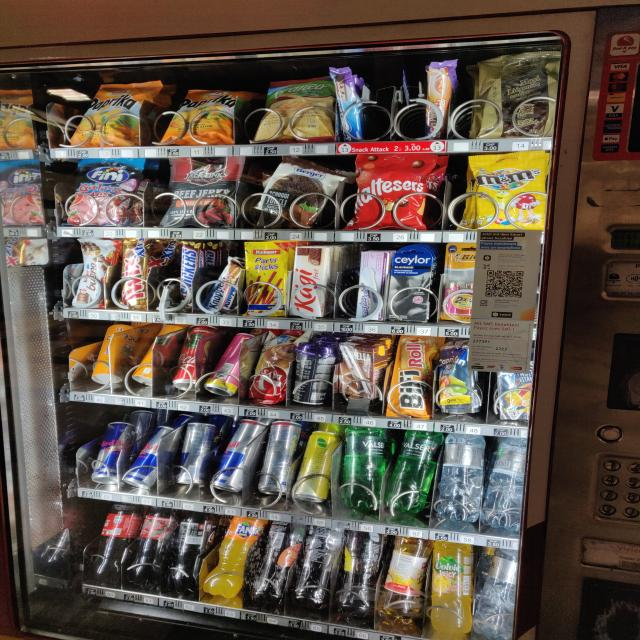7days_croissantschoko_packung_80_1_0000000000003: (249, 332, 295, 403)
bifi_roll__50__4251097402635: (388, 334, 441, 418)
bueno___43__4008400320328: (70, 240, 122, 307)
c-swiss_dosenabisicetea__33__9120025930135: (90, 324, 137, 386)
caferoyal_classicmacchiato__33__7617014164487: (288, 337, 339, 405)
caprisun_multivitamin__20__4000177605004: (430, 346, 482, 416), (490, 351, 538, 423)
coke__flasche_50__54491472: (79, 504, 135, 577), (125, 508, 173, 584)
coke_zero_flasche_50__5449000131836: (166, 514, 206, 589)
comella_schokodrink__33__7613100037253: (337, 342, 382, 397)
fanta___50__40822938: (203, 518, 260, 596)
fini_galaxymix_packung_100_1_8410525150364: (64, 157, 147, 226)
fuse_lemon__50__5449000235947: (333, 532, 386, 614), (293, 528, 337, 610)
fuse_lemon_dose_33__5449000235947: (294, 432, 342, 502)
fuse_peach__50__5449000236623: (246, 523, 306, 596)
jlbrichard_gauffrechoko__90__5410495002079: (472, 49, 566, 139)
kagi___50__7610046000259: (288, 245, 332, 318)
knoppers_riegel____4035800488808: (201, 256, 243, 314)
malburner_partysticks__40__7610200279682: (241, 242, 287, 318)
maltesers___100__5000159023061: (345, 154, 440, 232)
mnms_gelb__45__40111445: (467, 153, 551, 231)
ramseier_schorle__50__7610057012456: (376, 538, 429, 620)
redbull___33__90162909: (214, 419, 266, 491), (253, 421, 302, 493), (122, 426, 172, 490), (88, 424, 131, 484), (178, 425, 215, 489)
snickers___50__5000159461122: (172, 241, 203, 314)
tiki_himbeer_brause__50__00000000009342: (207, 335, 248, 397)
twix___50__5000159459228: (116, 240, 152, 310)
valser_classic__50__76404160: (384, 430, 444, 512), (341, 426, 388, 510)
valser_still__50__7610335002575: (435, 436, 487, 522), (482, 436, 528, 530), (474, 551, 520, 639)
volvic_pinapple__50__305764335648: (426, 544, 475, 634)
zweifel_graneochilli__100__7610095184009: (254, 71, 340, 146)
zweifel_paprika__90__7610095013002: (70, 79, 160, 148), (163, 81, 249, 145)
